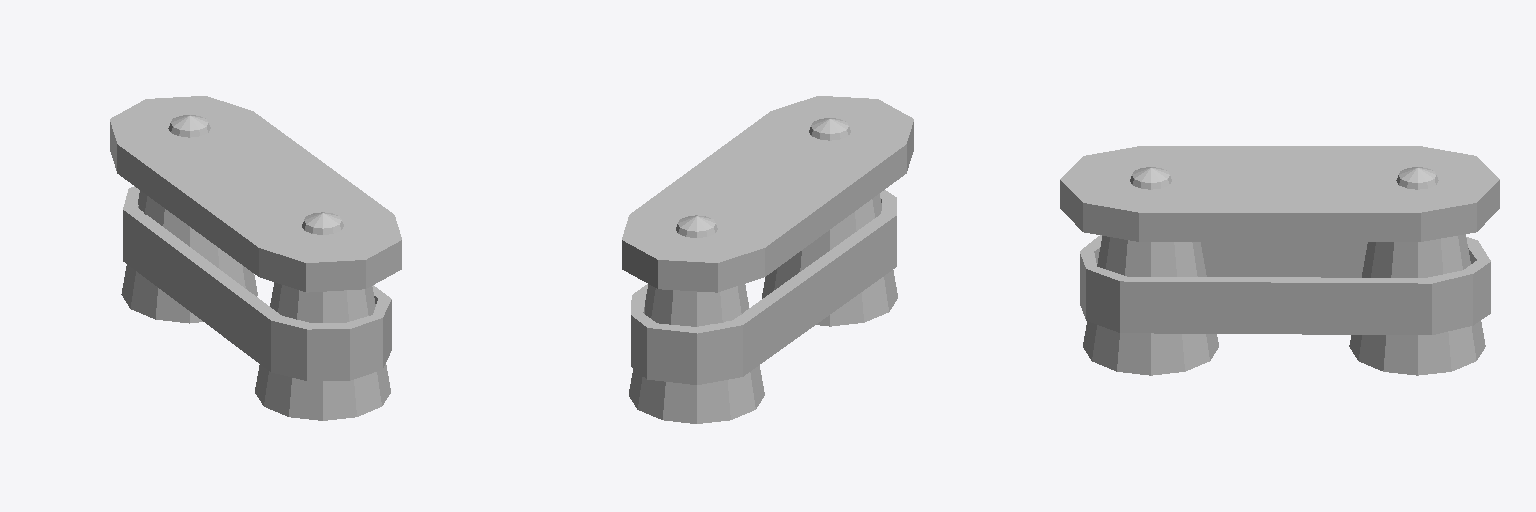
File: NormBumper1.obj
The picture shows the model from 3 angles: view 1: azimuth 30°, elevation 25°; view 2: azimuth 150°, elevation 25°; view 3: azimuth 270°, elevation 25°; orthographic projection.
Parts seen in each view (by area): view 1: SingleBumper.003_Untitled.036; view 2: SingleBumper.003_Untitled.036; view 3: SingleBumper.003_Untitled.036.
Boxes of the visible parts, box(x1,y1,x2,y2) form: SingleBumper.003_Untitled.036: box(110, 96, 401, 420); SingleBumper.003_Untitled.036: box(622, 96, 913, 423); SingleBumper.003_Untitled.036: box(1060, 146, 1499, 375).
Bounding box in the file's own units: 0.0361 × 0.0455 × 0.1012.